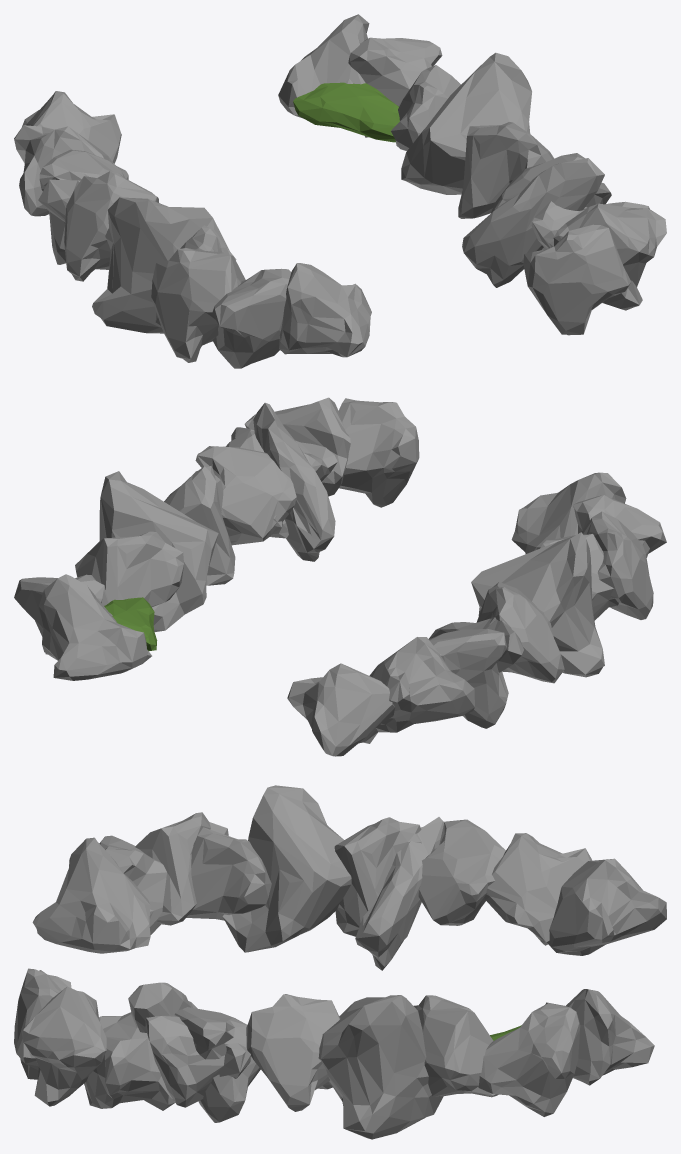
File: terrain_rocks.FBX
3 views of the same model, one above another, from view 1: azimuth 30°, elevation 25°; view 2: azimuth 150°, elevation 25°; view 3: azimuth 270°, elevation 25° (orthographic). The views are drawn at different scales.
Parts seen in each view (by area): view 1: Box048; view 2: Box048; view 3: Box048.
Part boxes in pixels (<box>): Box048: <box>14,14,666,368</box>; Box048: <box>14,397,666,756</box>; Box048: <box>14,785,666,1139</box>.
Size of the model in its own units: 3294 by 890 by 3714.
